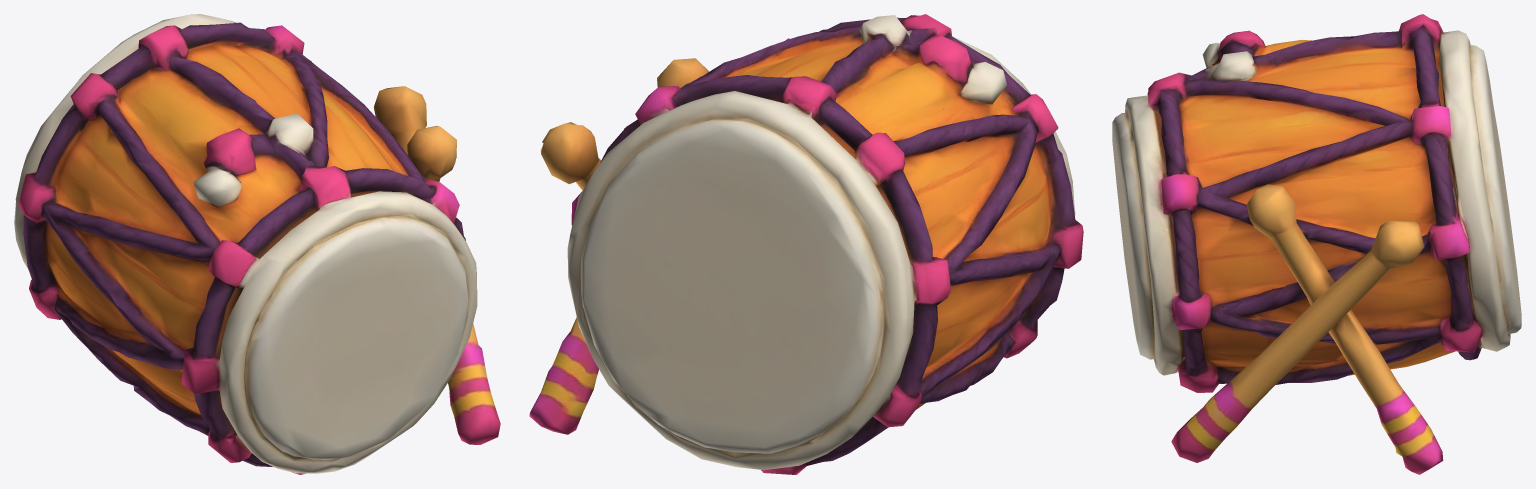
The model's file is powerup-dhol-beat.glb.
3 views of the same model, side by side, from view 1: azimuth 30°, elevation 25°; view 2: azimuth 150°, elevation 25°; view 3: azimuth 270°, elevation 25° (orthographic). The views are drawn at different scales.
Visible parts, largest first — view 1: tripo_node_24ec2d3b-67d4-40b0-8ef2-a11706b1f37c; view 2: tripo_node_24ec2d3b-67d4-40b0-8ef2-a11706b1f37c; view 3: tripo_node_24ec2d3b-67d4-40b0-8ef2-a11706b1f37c.
Part boxes in pixels (x1=…): tripo_node_24ec2d3b-67d4-40b0-8ef2-a11706b1f37c: x1=14, y1=14, x2=500, y2=474; tripo_node_24ec2d3b-67d4-40b0-8ef2-a11706b1f37c: x1=529, y1=14, x2=1083, y2=474; tripo_node_24ec2d3b-67d4-40b0-8ef2-a11706b1f37c: x1=1112, y1=14, x2=1521, y2=474.
Size of the model in its own units: 1 by 0.9378 by 0.986.
Materials: 1 (1 with a texture image).
